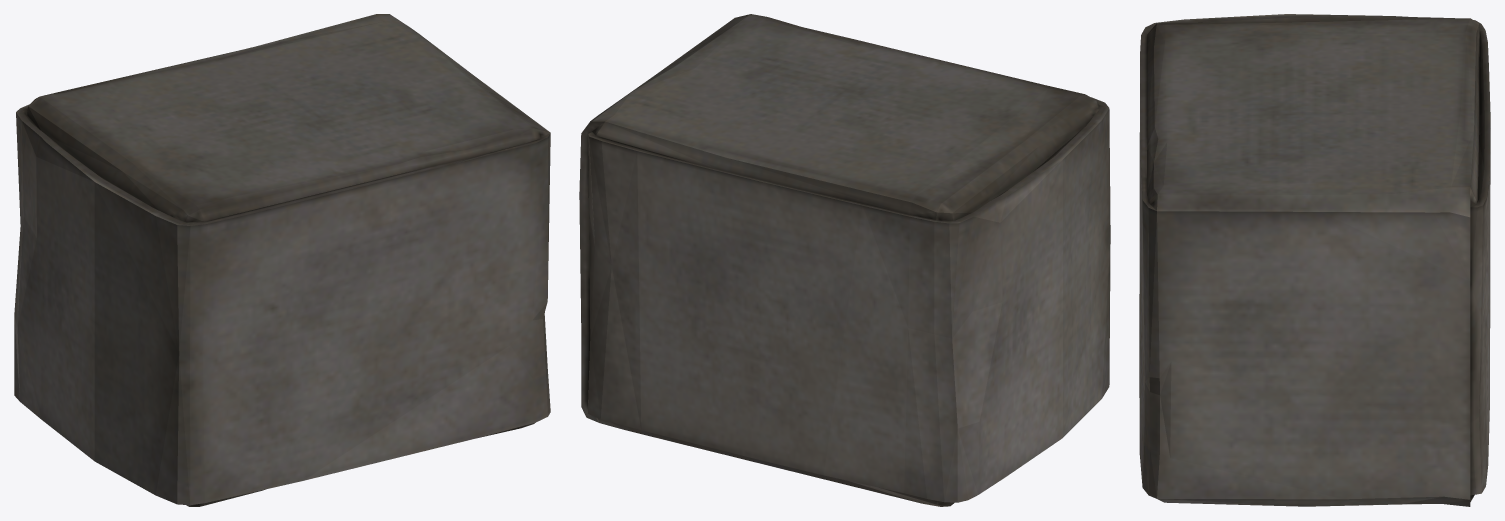
3 views of the same model, side by side, from view 1: azimuth 30°, elevation 25°; view 2: azimuth 150°, elevation 25°; view 3: azimuth 270°, elevation 25° (orthographic). The views are drawn at different scales.
Visible parts, largest first — view 1: TW_6489851fc827d4637f01791b_PZ_Import; view 2: TW_6489851fc827d4637f01791b_PZ_Import; view 3: TW_6489851fc827d4637f01791b_PZ_Import.
Boxes of the visible parts, x1,y1,x2,y2 form: TW_6489851fc827d4637f01791b_PZ_Import: [14, 14, 550, 506]; TW_6489851fc827d4637f01791b_PZ_Import: [579, 14, 1110, 506]; TW_6489851fc827d4637f01791b_PZ_Import: [1139, 14, 1490, 506].
Size of the model in its own units: 0.0363 by 0.0271 by 0.0269.
1 material, 1 textured.
